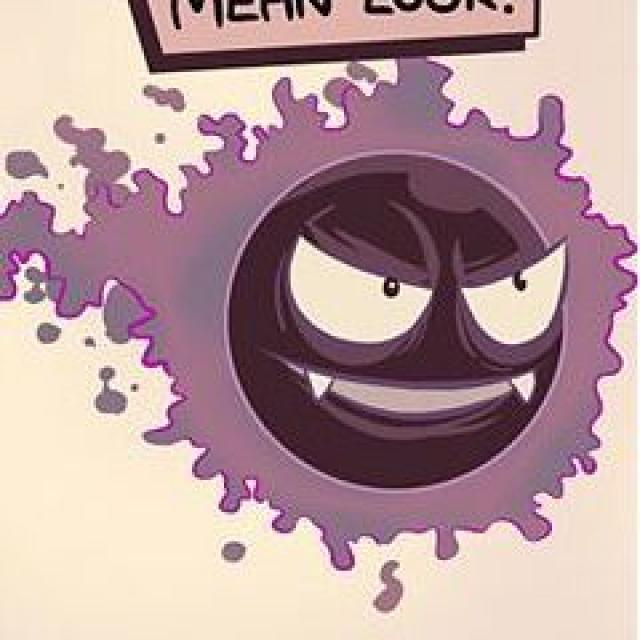Gastly: (145, 91, 620, 541)
